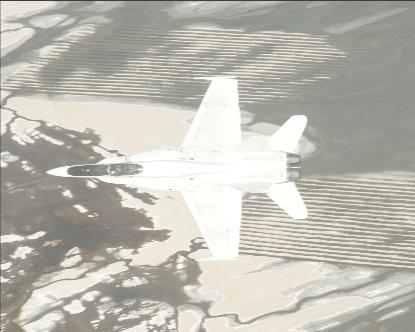F15: (45, 75, 307, 260)
